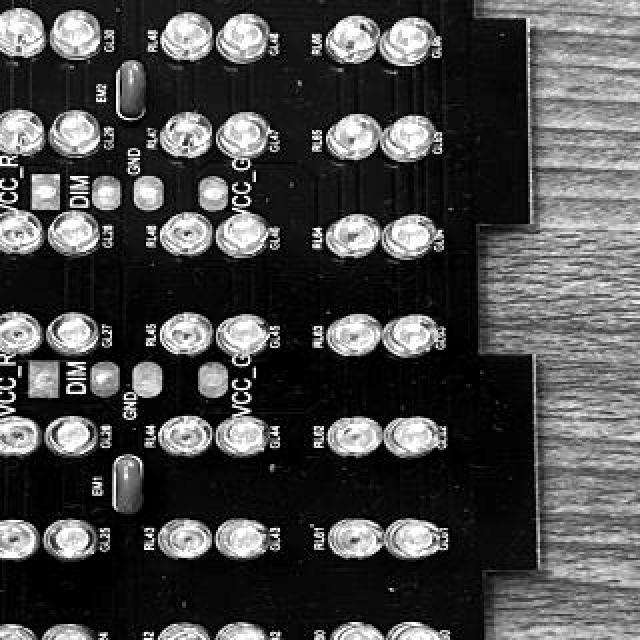EMC filter: (115, 456, 143, 514), (120, 60, 146, 116)
